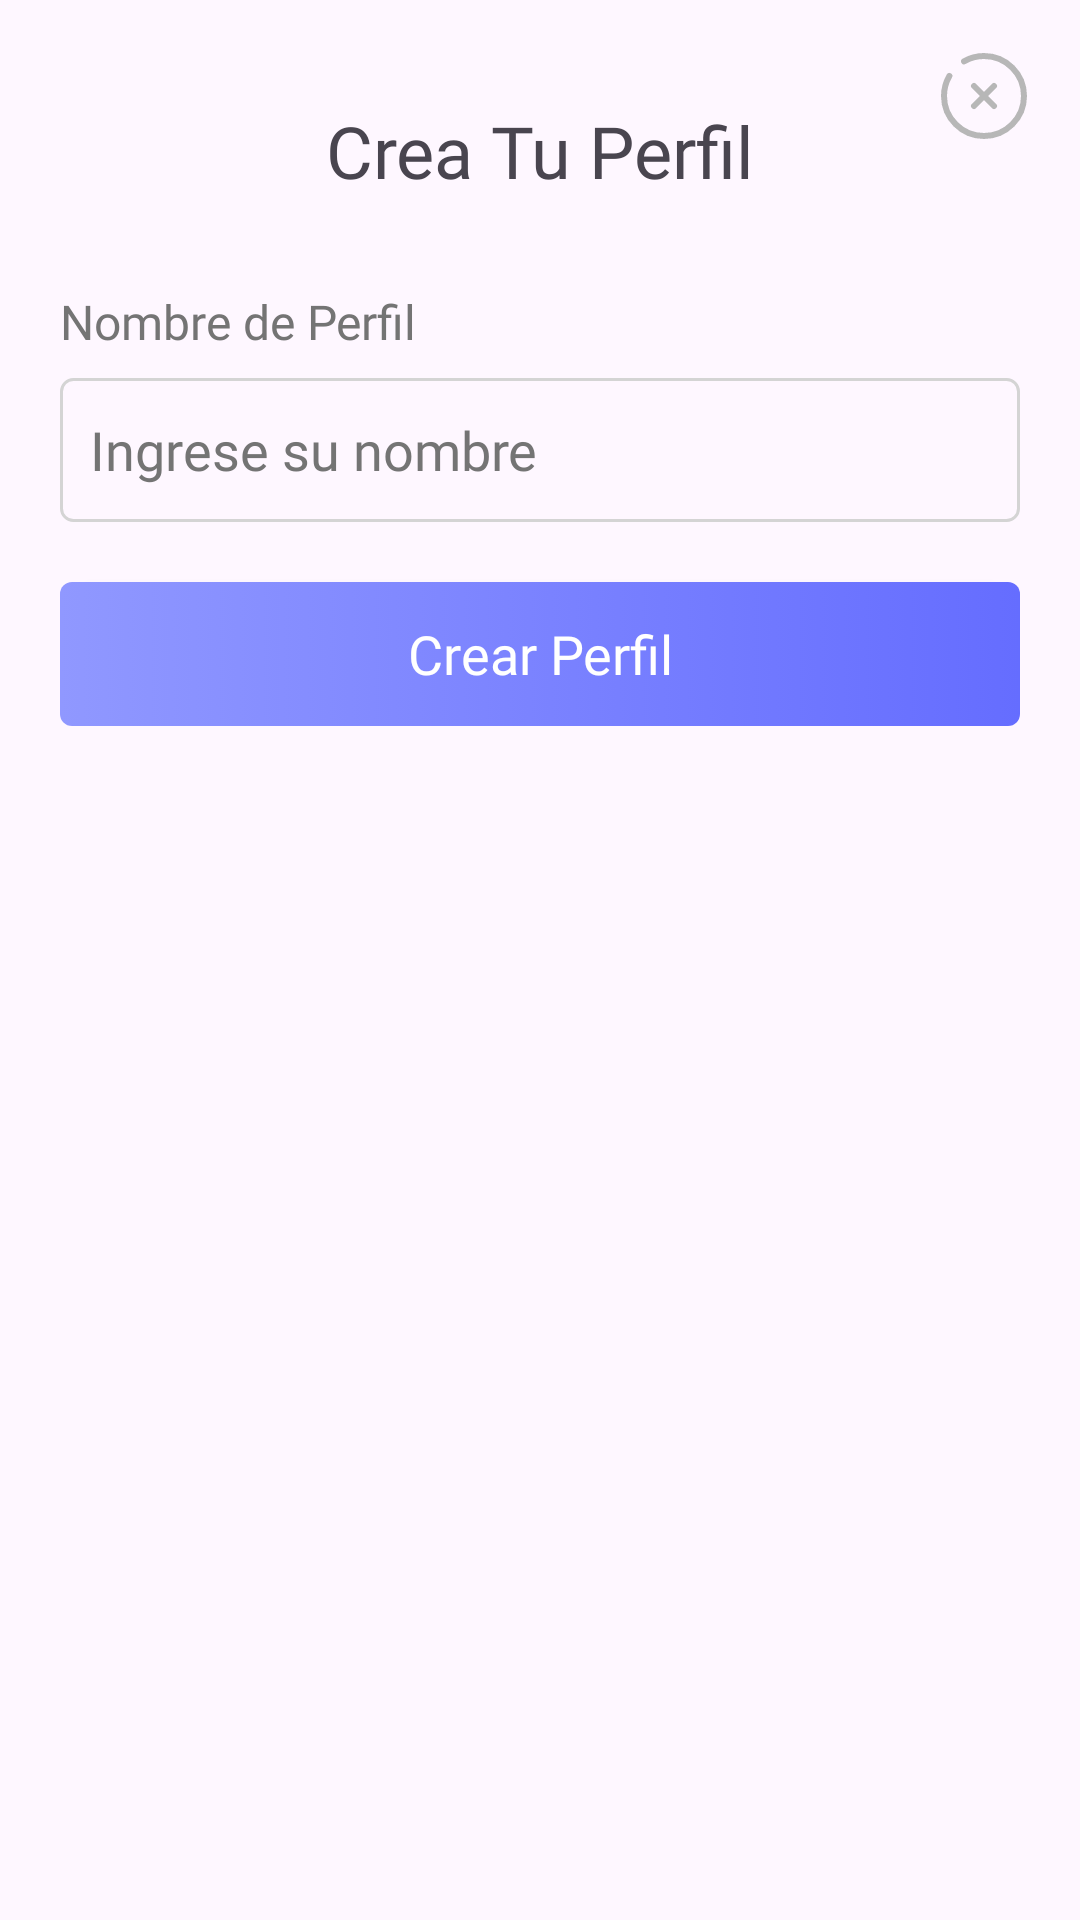

Named icons in this screenshot (1080px×1920px) and their bounding boxes, (x1, y1, x2, y2):
close circle: (941, 53, 1027, 139)
